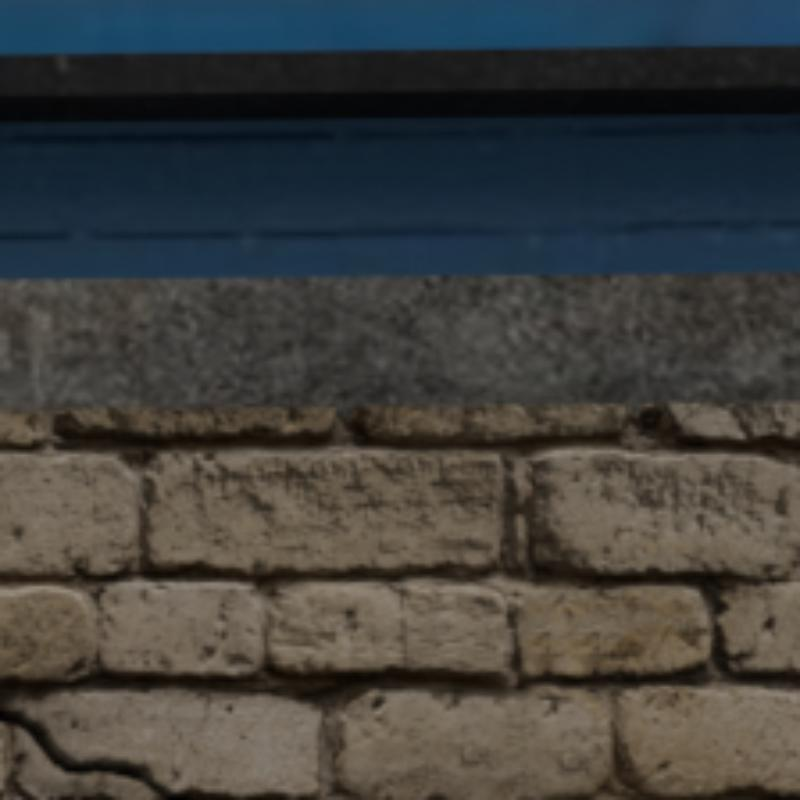pothole: (0, 707, 189, 796)
